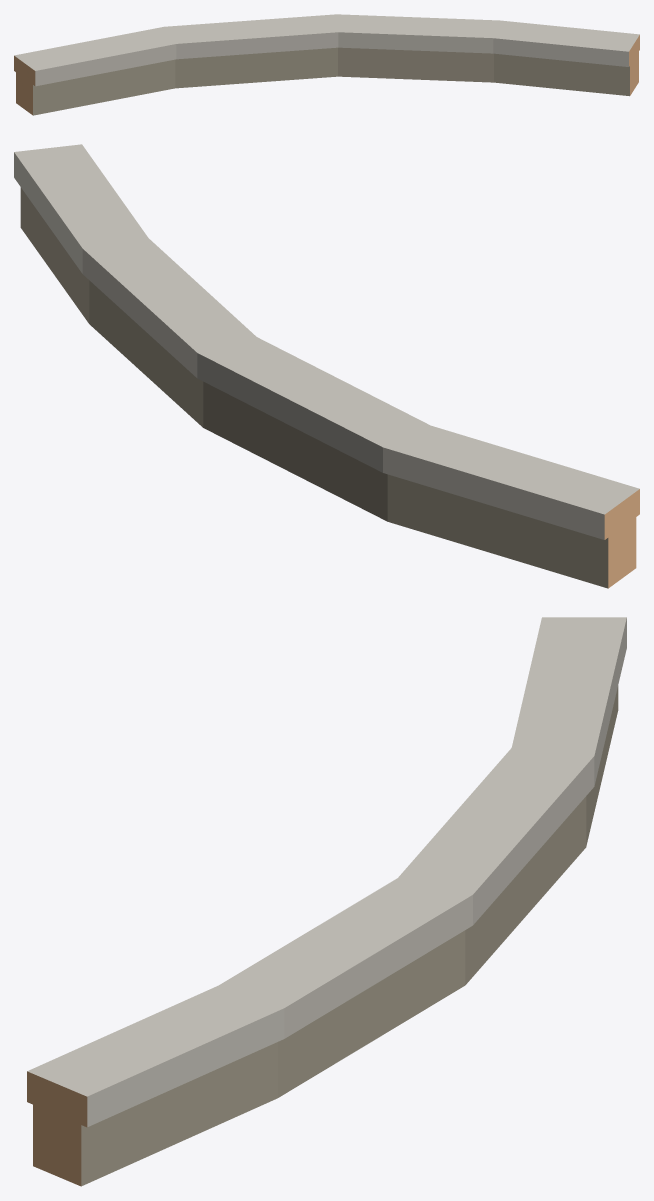
File: Tiered_Retaining_Wall_45_Degrees_Curve_Outer_3x4_Top.glb
3 renders of one model, top to bottom at view 1: azimuth 30°, elevation 25°; view 2: azimuth 150°, elevation 25°; view 3: azimuth 270°, elevation 25°, orthographic. The views are drawn at different scales.
Visible parts, largest first — view 1: Tiered_Retaining_Wall_45_Degrees_Curve_Outer_3x4_Top; view 2: Tiered_Retaining_Wall_45_Degrees_Curve_Outer_3x4_Top; view 3: Tiered_Retaining_Wall_45_Degrees_Curve_Outer_3x4_Top.
Boxes of the visible parts, x1=… form: Tiered_Retaining_Wall_45_Degrees_Curve_Outer_3x4_Top: x1=14, y1=14, x2=639, y2=115; Tiered_Retaining_Wall_45_Degrees_Curve_Outer_3x4_Top: x1=14, y1=144, x2=639, y2=588; Tiered_Retaining_Wall_45_Degrees_Curve_Outer_3x4_Top: x1=27, y1=617, x2=626, y2=1186.
Bounding box in the file's own units: 417 × 37.5 × 221.
